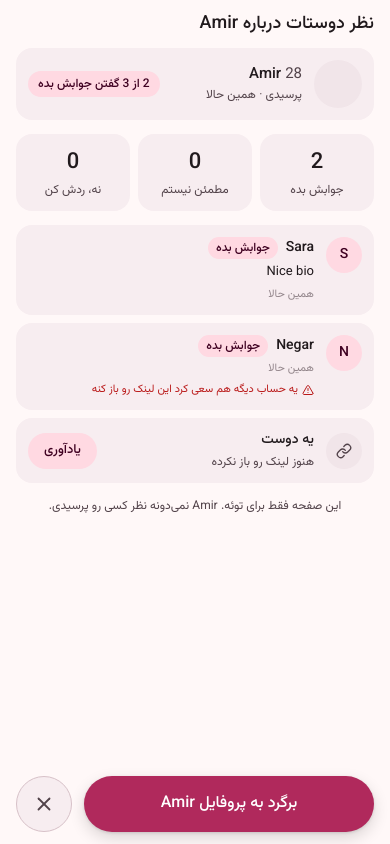
Test: AskResults › remind calls the endpoint once and then disables
Click the button "یادآوری": (62, 450) [28,432,97,468]
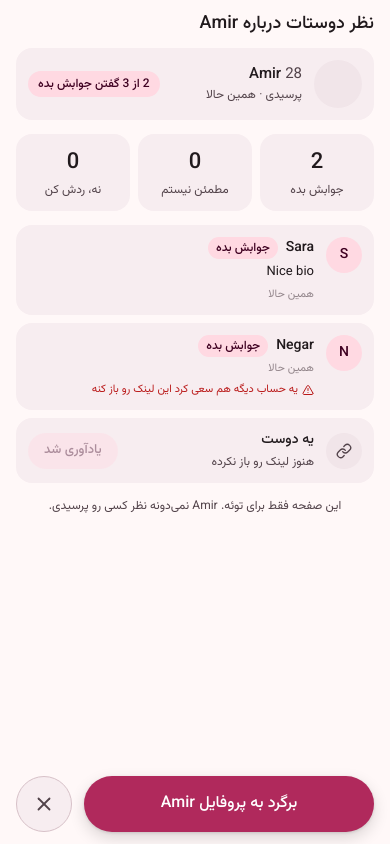
Expected: the button "یادآوری شد" is disabled, [28,432,118,468]
